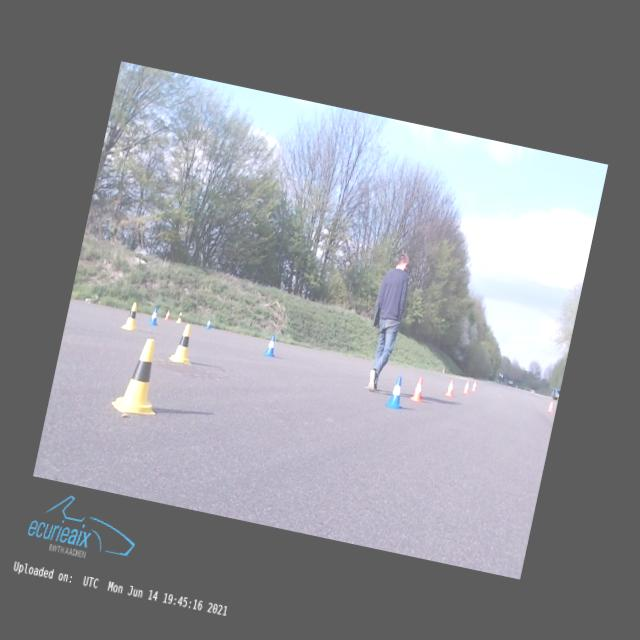blue_cone: (384, 374, 407, 410), (262, 334, 278, 357), (148, 306, 160, 326), (206, 319, 212, 329)
orange_cone: (409, 376, 426, 402), (444, 378, 456, 397), (462, 380, 470, 393), (546, 399, 554, 412), (470, 380, 478, 391), (164, 308, 171, 320)
yellow_cone: (110, 333, 169, 418), (167, 322, 198, 364), (120, 300, 141, 331), (175, 310, 182, 322)
